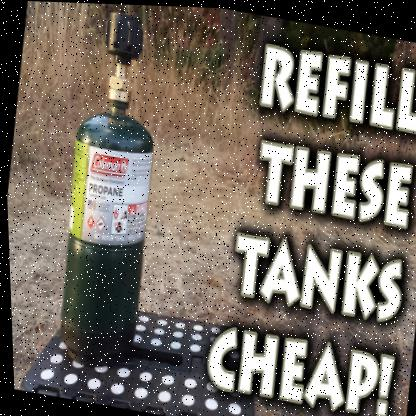gas-tank: (29, 72, 188, 375)
